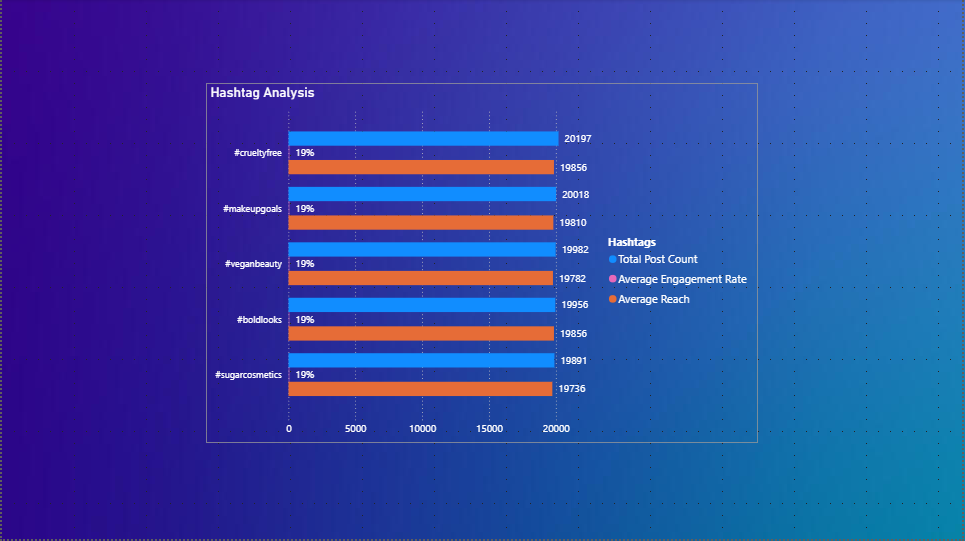

The page's visual inventory and layout, read from the dashboard file:
{"tool":"powerbi","page":{"name":"Page 3","canvas":[1280,720],"ordinal":2},"visuals":[{"type":"clusteredBarChart","title":"Hashtag Analysis","fields":{"Category":["public fact_hashtags_by_top_used.hashtag"],"Y":["Sum(public fact_hashtags_by_top_used.post_count)","Avg(public fact_hashtags_by_top_used.avg_engagement_rate)","Avg(public fact_hashtags_by_top_used.avg_reach)"]},"box":[272,112,736,480],"z":0}]}

Visuals, with their boxes in screenshot pixels (x1, y1, x2, y2), scaled from the page's 1280x720 canvas onto the 965x541 screenshot:
"Hashtag Analysis" clusteredBarChart: <box>205,84,760,445</box>
